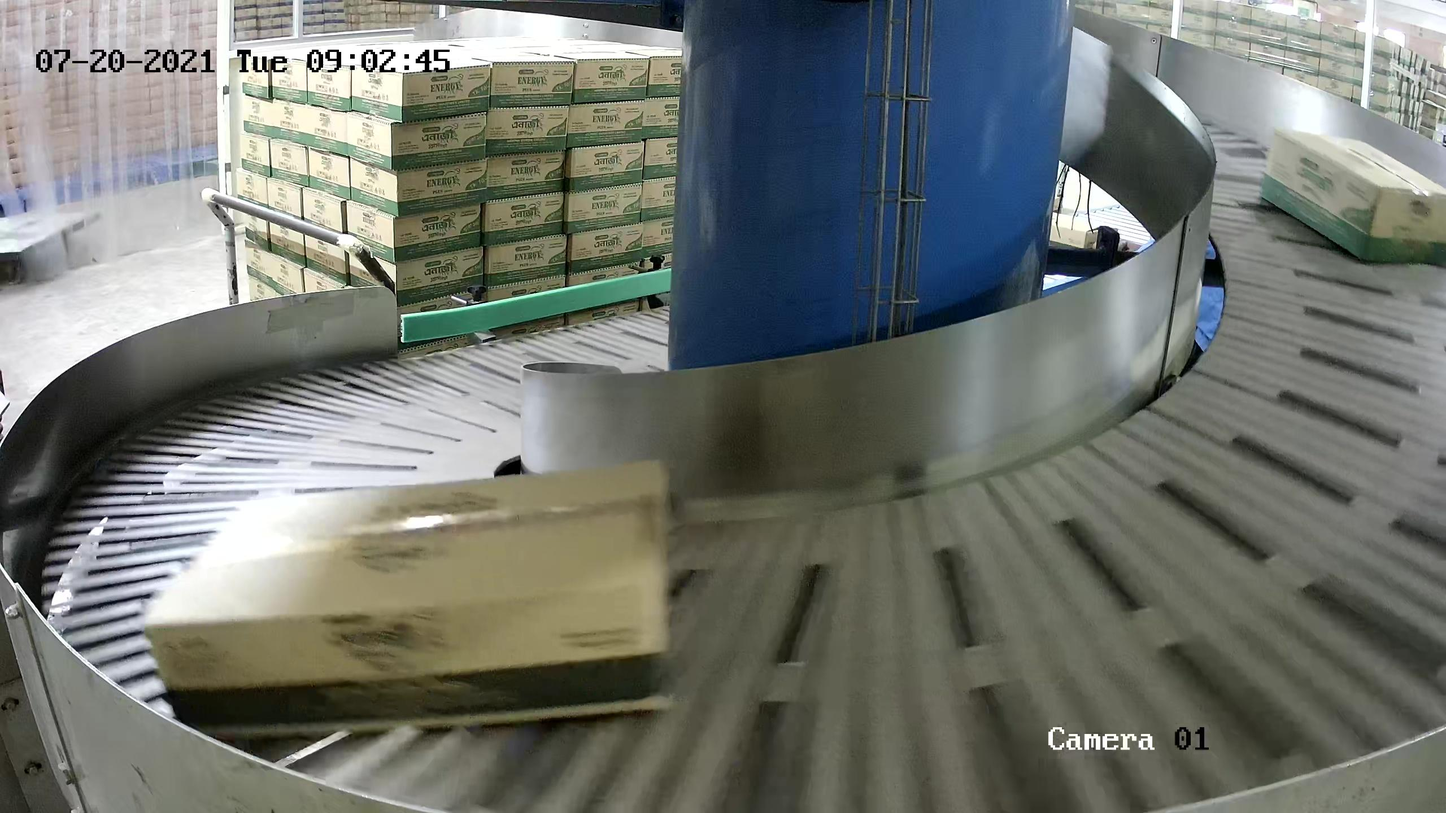Box: (141, 456, 674, 731), (1259, 124, 1446, 265)
